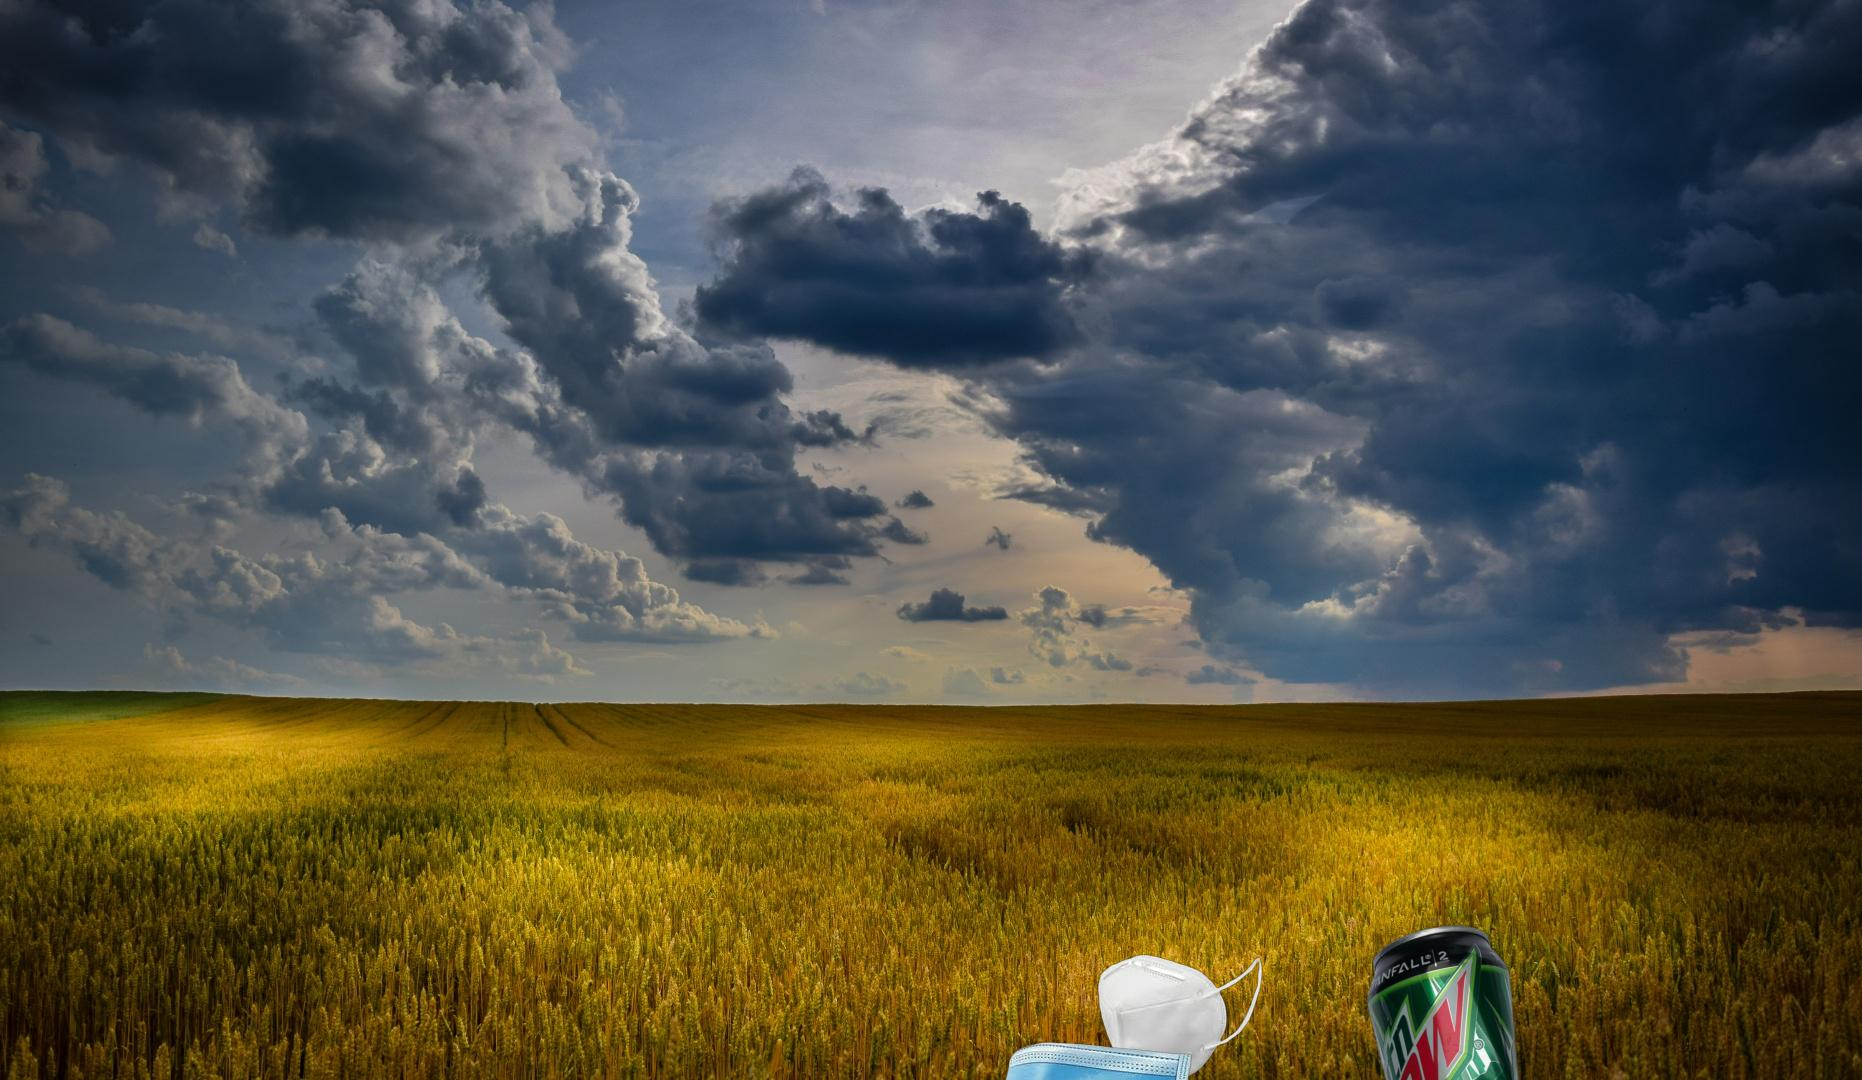metal-cans: (1363, 915, 1566, 1080)
trash: (1095, 951, 1264, 1080), (1000, 1039, 1249, 1080)
